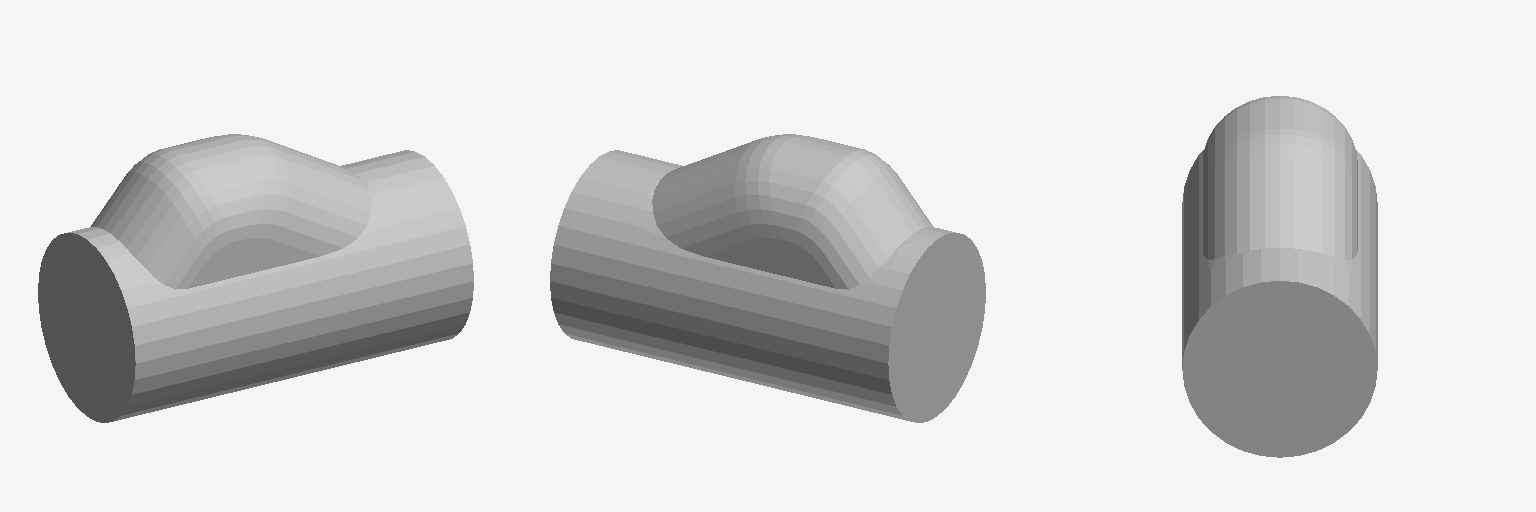
File: cockpit.obj
3 views of the same model, side by side, from view 1: azimuth 30°, elevation 25°; view 2: azimuth 150°, elevation 25°; view 3: azimuth 270°, elevation 25° (orthographic).
Parts seen in each view (by area): view 1: Cube; view 2: Cube; view 3: Cube.
Boxes of the visible parts, x1,y1,x2,y2 form: Cube: [38, 134, 473, 422]; Cube: [550, 134, 985, 422]; Cube: [1182, 96, 1377, 457].
Bounding box in the file's own units: 2 × 1.35 × 1.